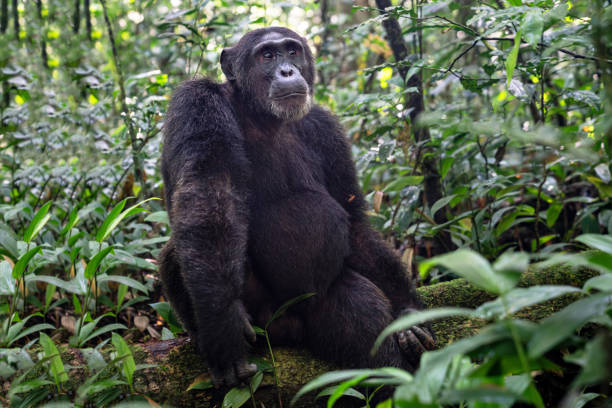chimpanzee: (208, 16, 348, 137)
